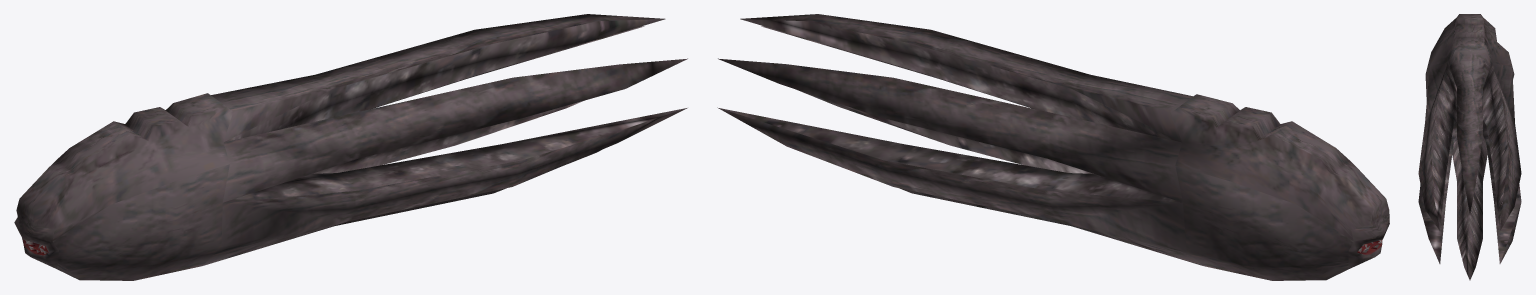
The model's file is bst71.obj.
3 renders of one model, left to right at view 1: azimuth 30°, elevation 25°; view 2: azimuth 150°, elevation 25°; view 3: azimuth 270°, elevation 25°, orthographic. The views are drawn at different scales.
Parts seen in each view (by area): view 1: REVENANT_BODY0; view 2: REVENANT_BODY0; view 3: REVENANT_BODY0.
Boxes of the visible parts, <box> form: REVENANT_BODY0: <box>14,14,687,280</box>; REVENANT_BODY0: <box>717,14,1389,280</box>; REVENANT_BODY0: <box>1418,14,1521,280</box>.
Size of the model in its own units: 290 by 64.73 by 58.87.
Materials: 3 (3 with a texture image).
